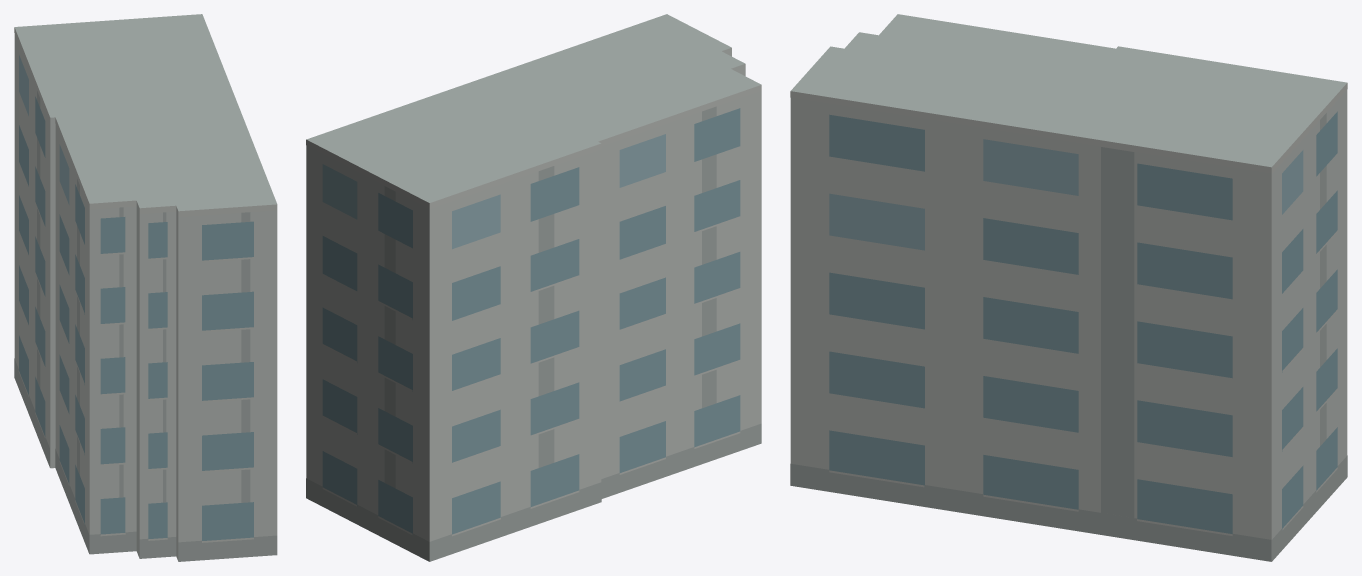
File: survey-upis-32784281.glb
3 views of the same model, side by side, from view 1: azimuth 30°, elevation 25°; view 2: azimuth 150°, elevation 25°; view 3: azimuth 270°, elevation 25° (orthographic). The views are drawn at different scales.
Parts seen in each view (by area): view 1: survey-upis-32784281.tmp; view 2: survey-upis-32784281.tmp; view 3: survey-upis-32784281.tmp.
Part boxes in pixels (x1,y1,x2,y2): survey-upis-32784281.tmp: [14, 14, 277, 561]; survey-upis-32784281.tmp: [306, 14, 761, 561]; survey-upis-32784281.tmp: [790, 14, 1347, 561].
Size of the model in its own units: 12.17 by 14.6 by 18.69.
